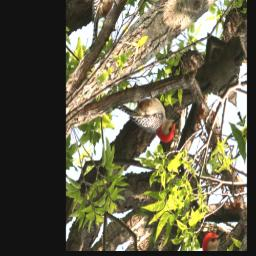Woodpecker: (113, 63, 187, 173)
